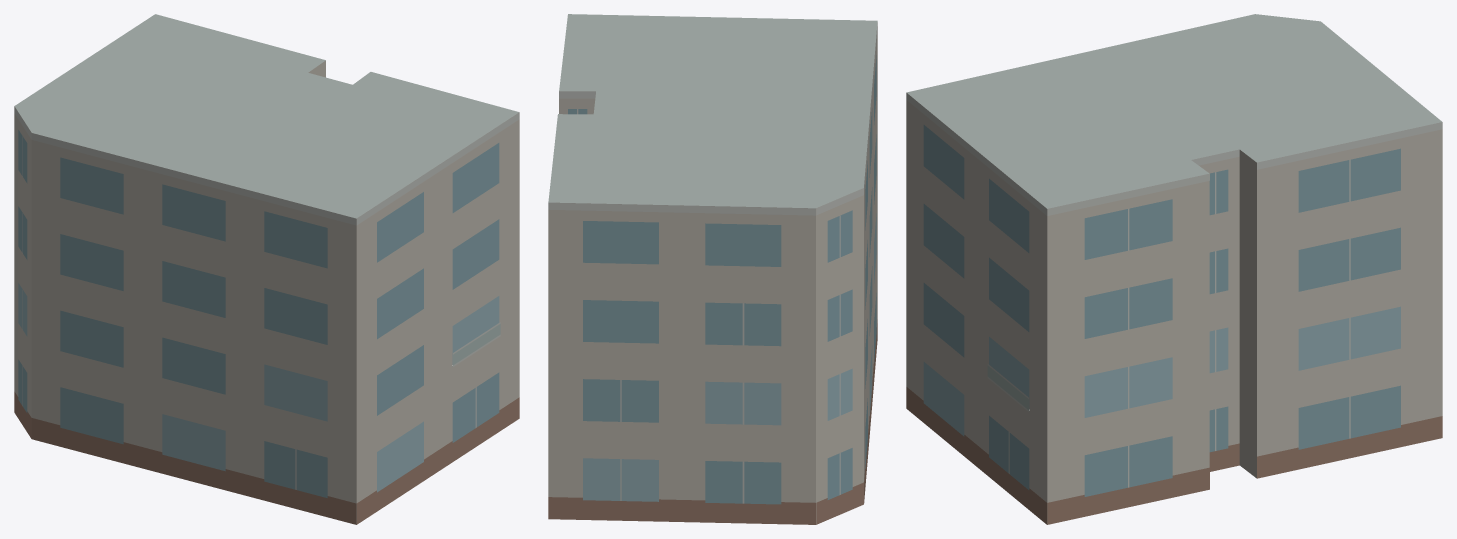
File: survey-upis-33028751.glb
3 views of the same model, side by side, from view 1: azimuth 30°, elevation 25°; view 2: azimuth 150°, elevation 25°; view 3: azimuth 270°, elevation 25° (orthographic). The views are drawn at different scales.
Visible parts, largest first — view 1: survey-upis-33028751.tmp; view 2: survey-upis-33028751.tmp; view 3: survey-upis-33028751.tmp.
Part boxes in pixels (<box>): survey-upis-33028751.tmp: <box>14,14,519,524</box>; survey-upis-33028751.tmp: <box>548,14,877,524</box>; survey-upis-33028751.tmp: <box>906,14,1442,524</box>.
Bounding box in the file's own units: 14.09 × 10.65 × 16.39.
